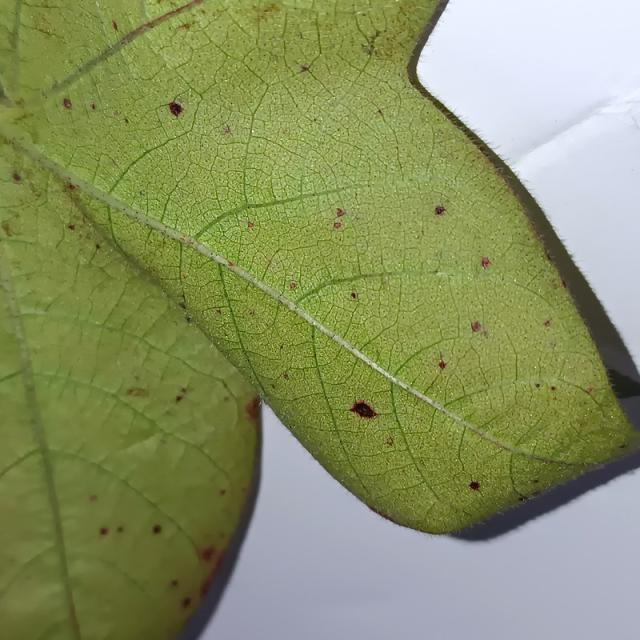Bacterial_Blight: (196, 543, 230, 602), (348, 399, 379, 419), (424, 200, 449, 220), (251, 3, 278, 21), (168, 100, 186, 117), (126, 387, 150, 398), (469, 477, 481, 496), (201, 547, 215, 562), (175, 388, 188, 403), (1, 222, 14, 237), (151, 522, 164, 536), (470, 321, 483, 333), (201, 581, 211, 596), (480, 257, 491, 268), (380, 510, 392, 520), (249, 396, 258, 409), (62, 98, 72, 109), (182, 597, 191, 608), (362, 46, 373, 55), (545, 250, 553, 262), (99, 527, 109, 536), (438, 360, 447, 370), (335, 208, 345, 217), (384, 437, 394, 446), (560, 278, 567, 289), (179, 22, 190, 29), (89, 494, 98, 502), (223, 125, 231, 134), (112, 20, 118, 31), (13, 173, 21, 181), (170, 579, 178, 587), (289, 282, 297, 290), (333, 222, 342, 229), (300, 65, 309, 72), (350, 292, 357, 300), (543, 320, 551, 327), (179, 302, 186, 310), (376, 109, 383, 117), (185, 315, 192, 323), (518, 496, 527, 502), (219, 489, 226, 496), (68, 224, 75, 231), (117, 526, 124, 533), (247, 222, 254, 229), (587, 387, 594, 394), (68, 183, 75, 190), (283, 373, 289, 381), (382, 278, 388, 286), (552, 282, 558, 289), (227, 261, 234, 267), (179, 237, 186, 243), (482, 331, 488, 338), (619, 442, 626, 448), (216, 309, 222, 315), (114, 110, 120, 116), (249, 311, 255, 317), (124, 118, 130, 124), (139, 190, 145, 196), (96, 243, 101, 250), (91, 103, 96, 110), (271, 384, 276, 390), (535, 383, 540, 388), (551, 386, 556, 391), (533, 479, 539, 483)
Cotton: (0, 0, 639, 639)
